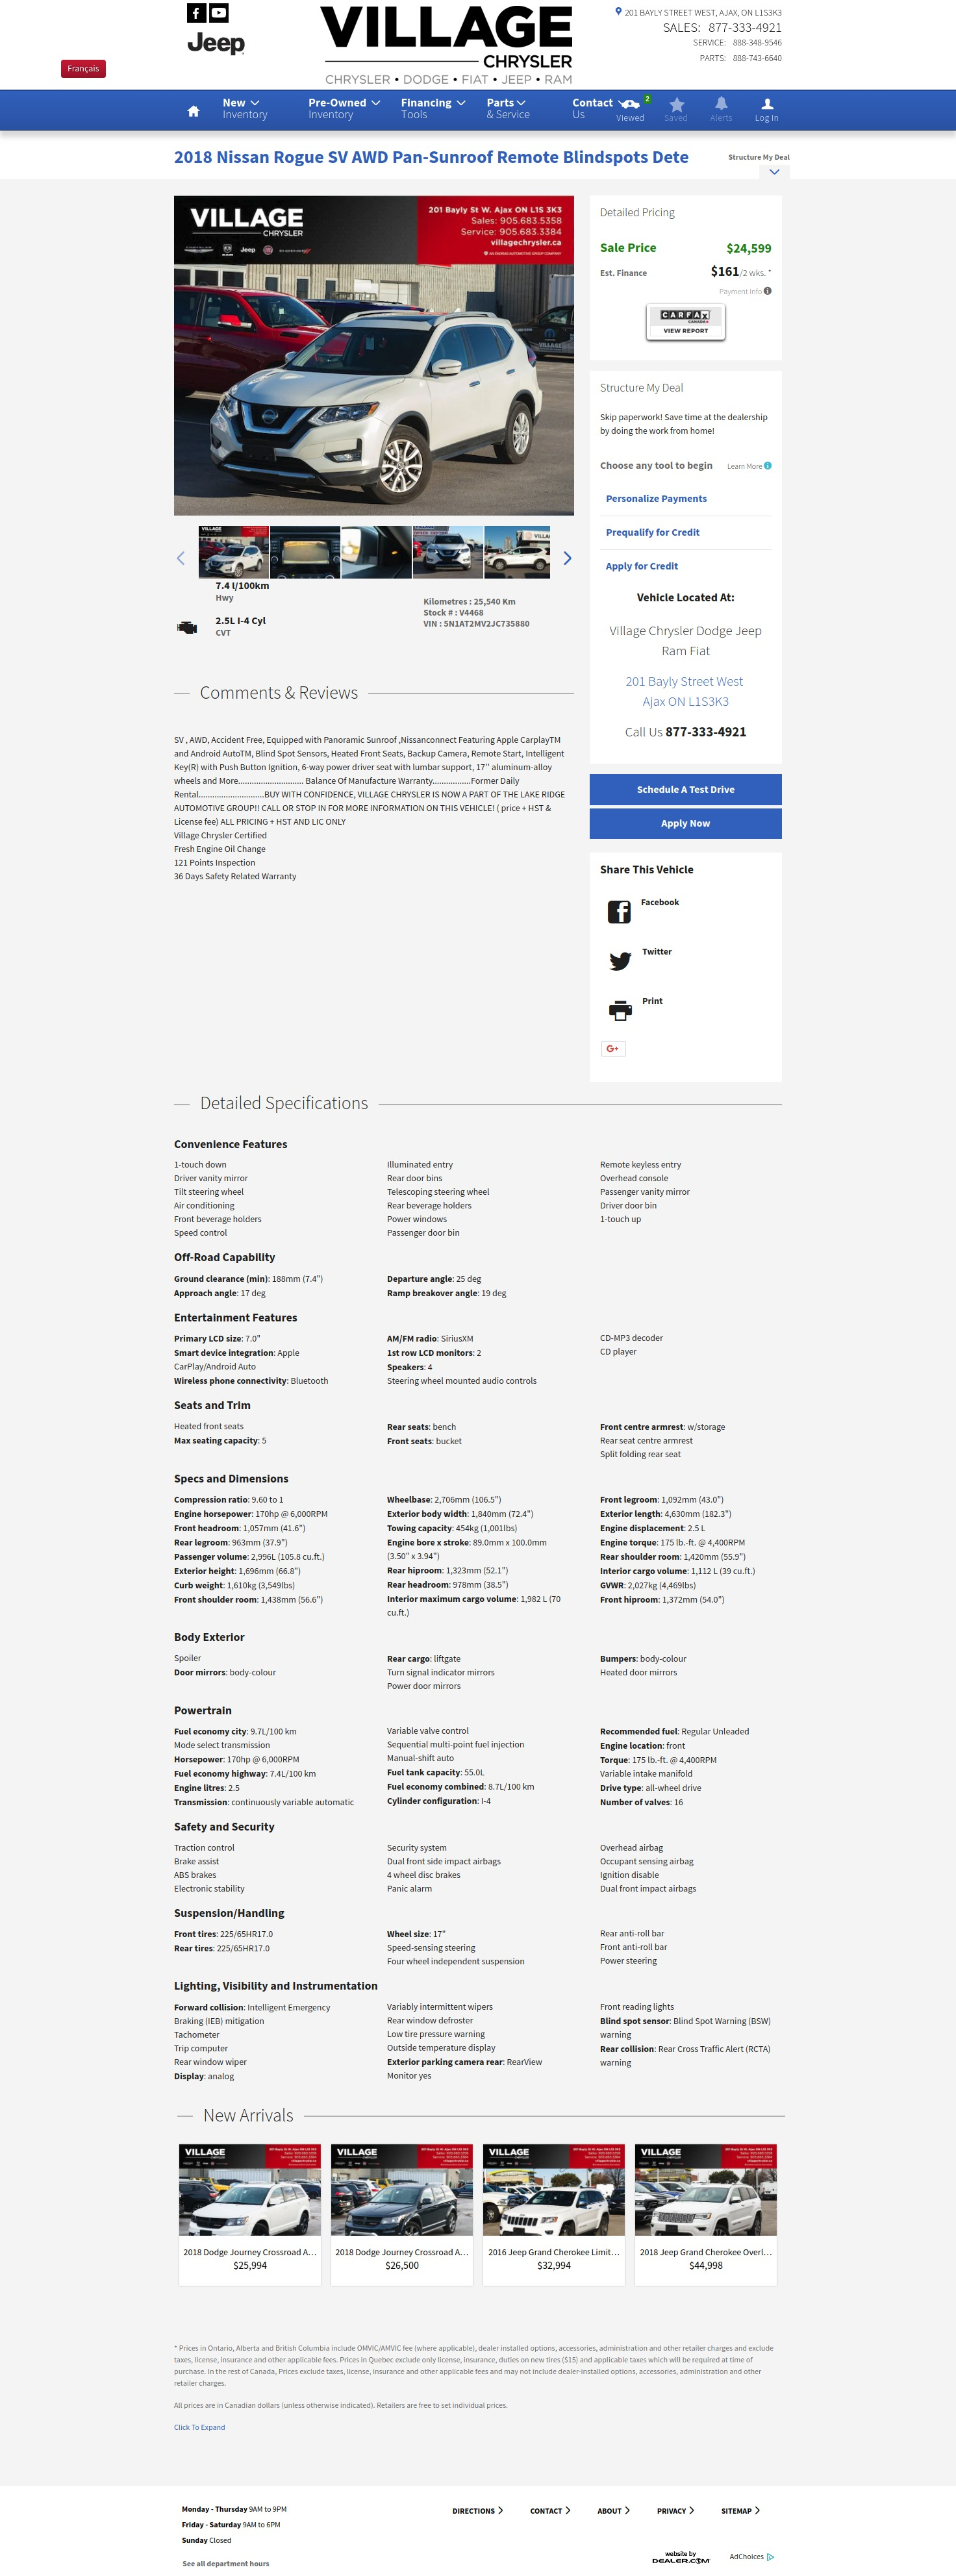car: (563, 552, 572, 567)
